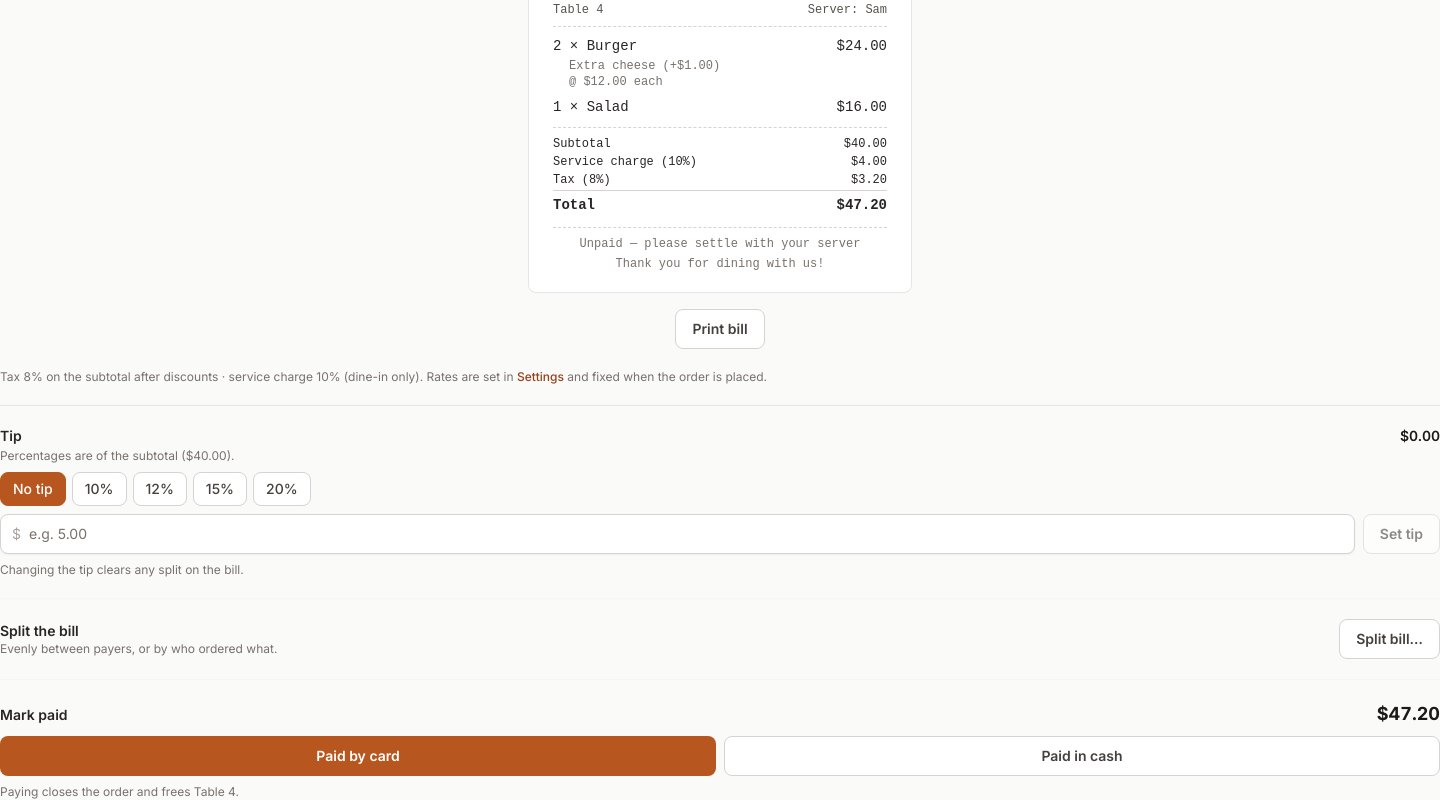
Test: BillPanel › opens the split dialog and reports it as open
(page scrolled)
Step 1. Click the button "Split bill…" → (1390, 638), box [1339,618,1439,658]
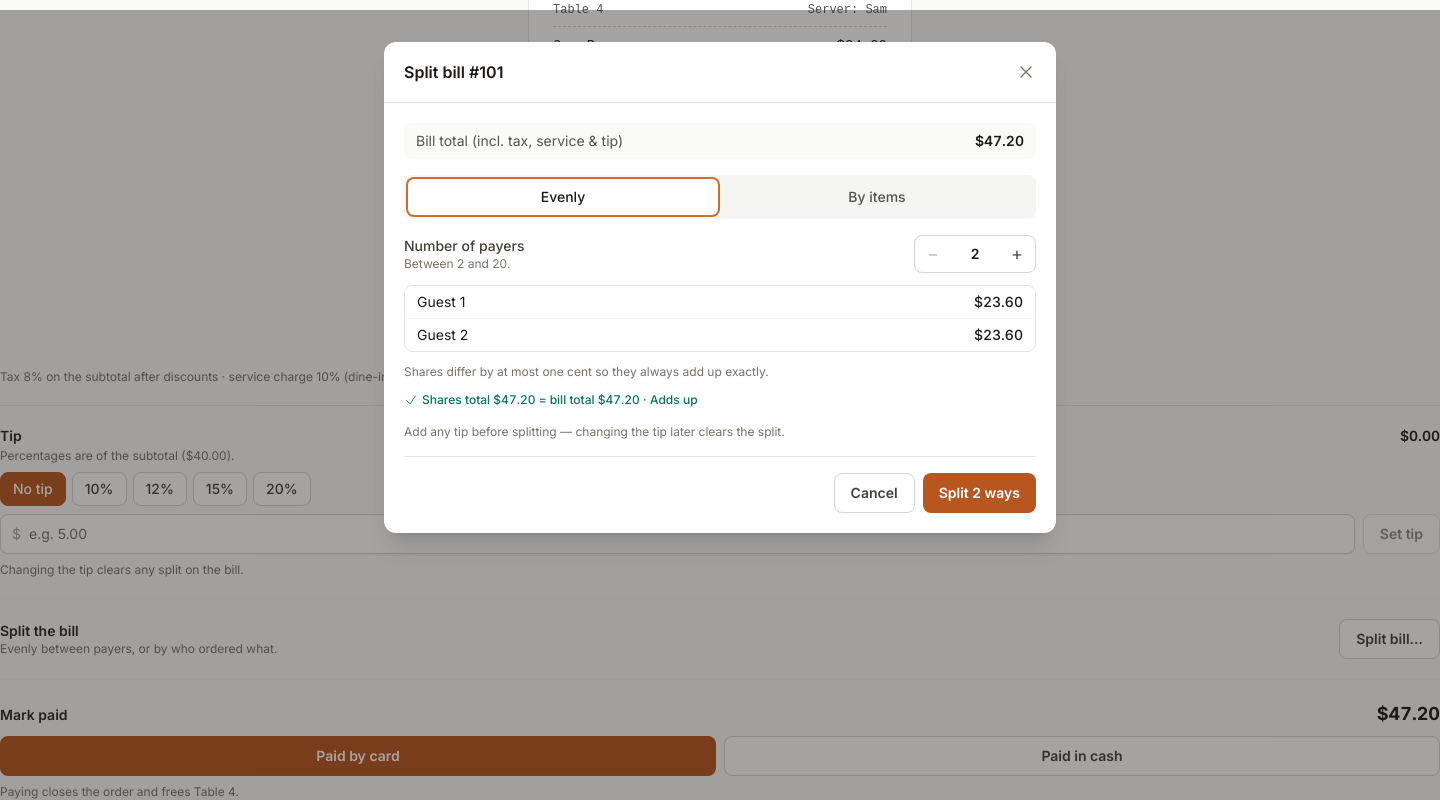
Now the dialog "Split bill #101" is shown
Step 2. Click the button "Cancel" → (874, 493), box [834,473,915,513]
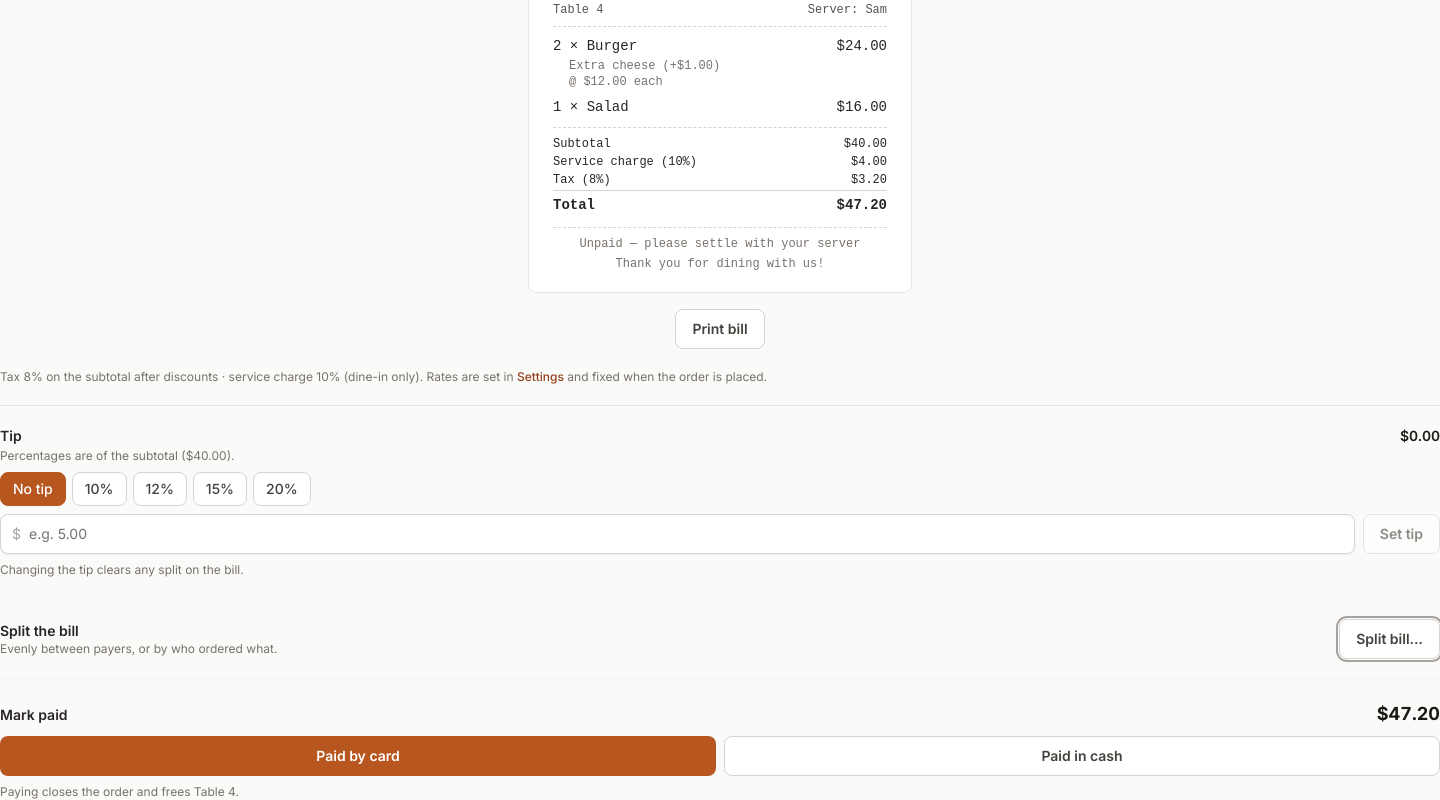
Now the dialog is gone
